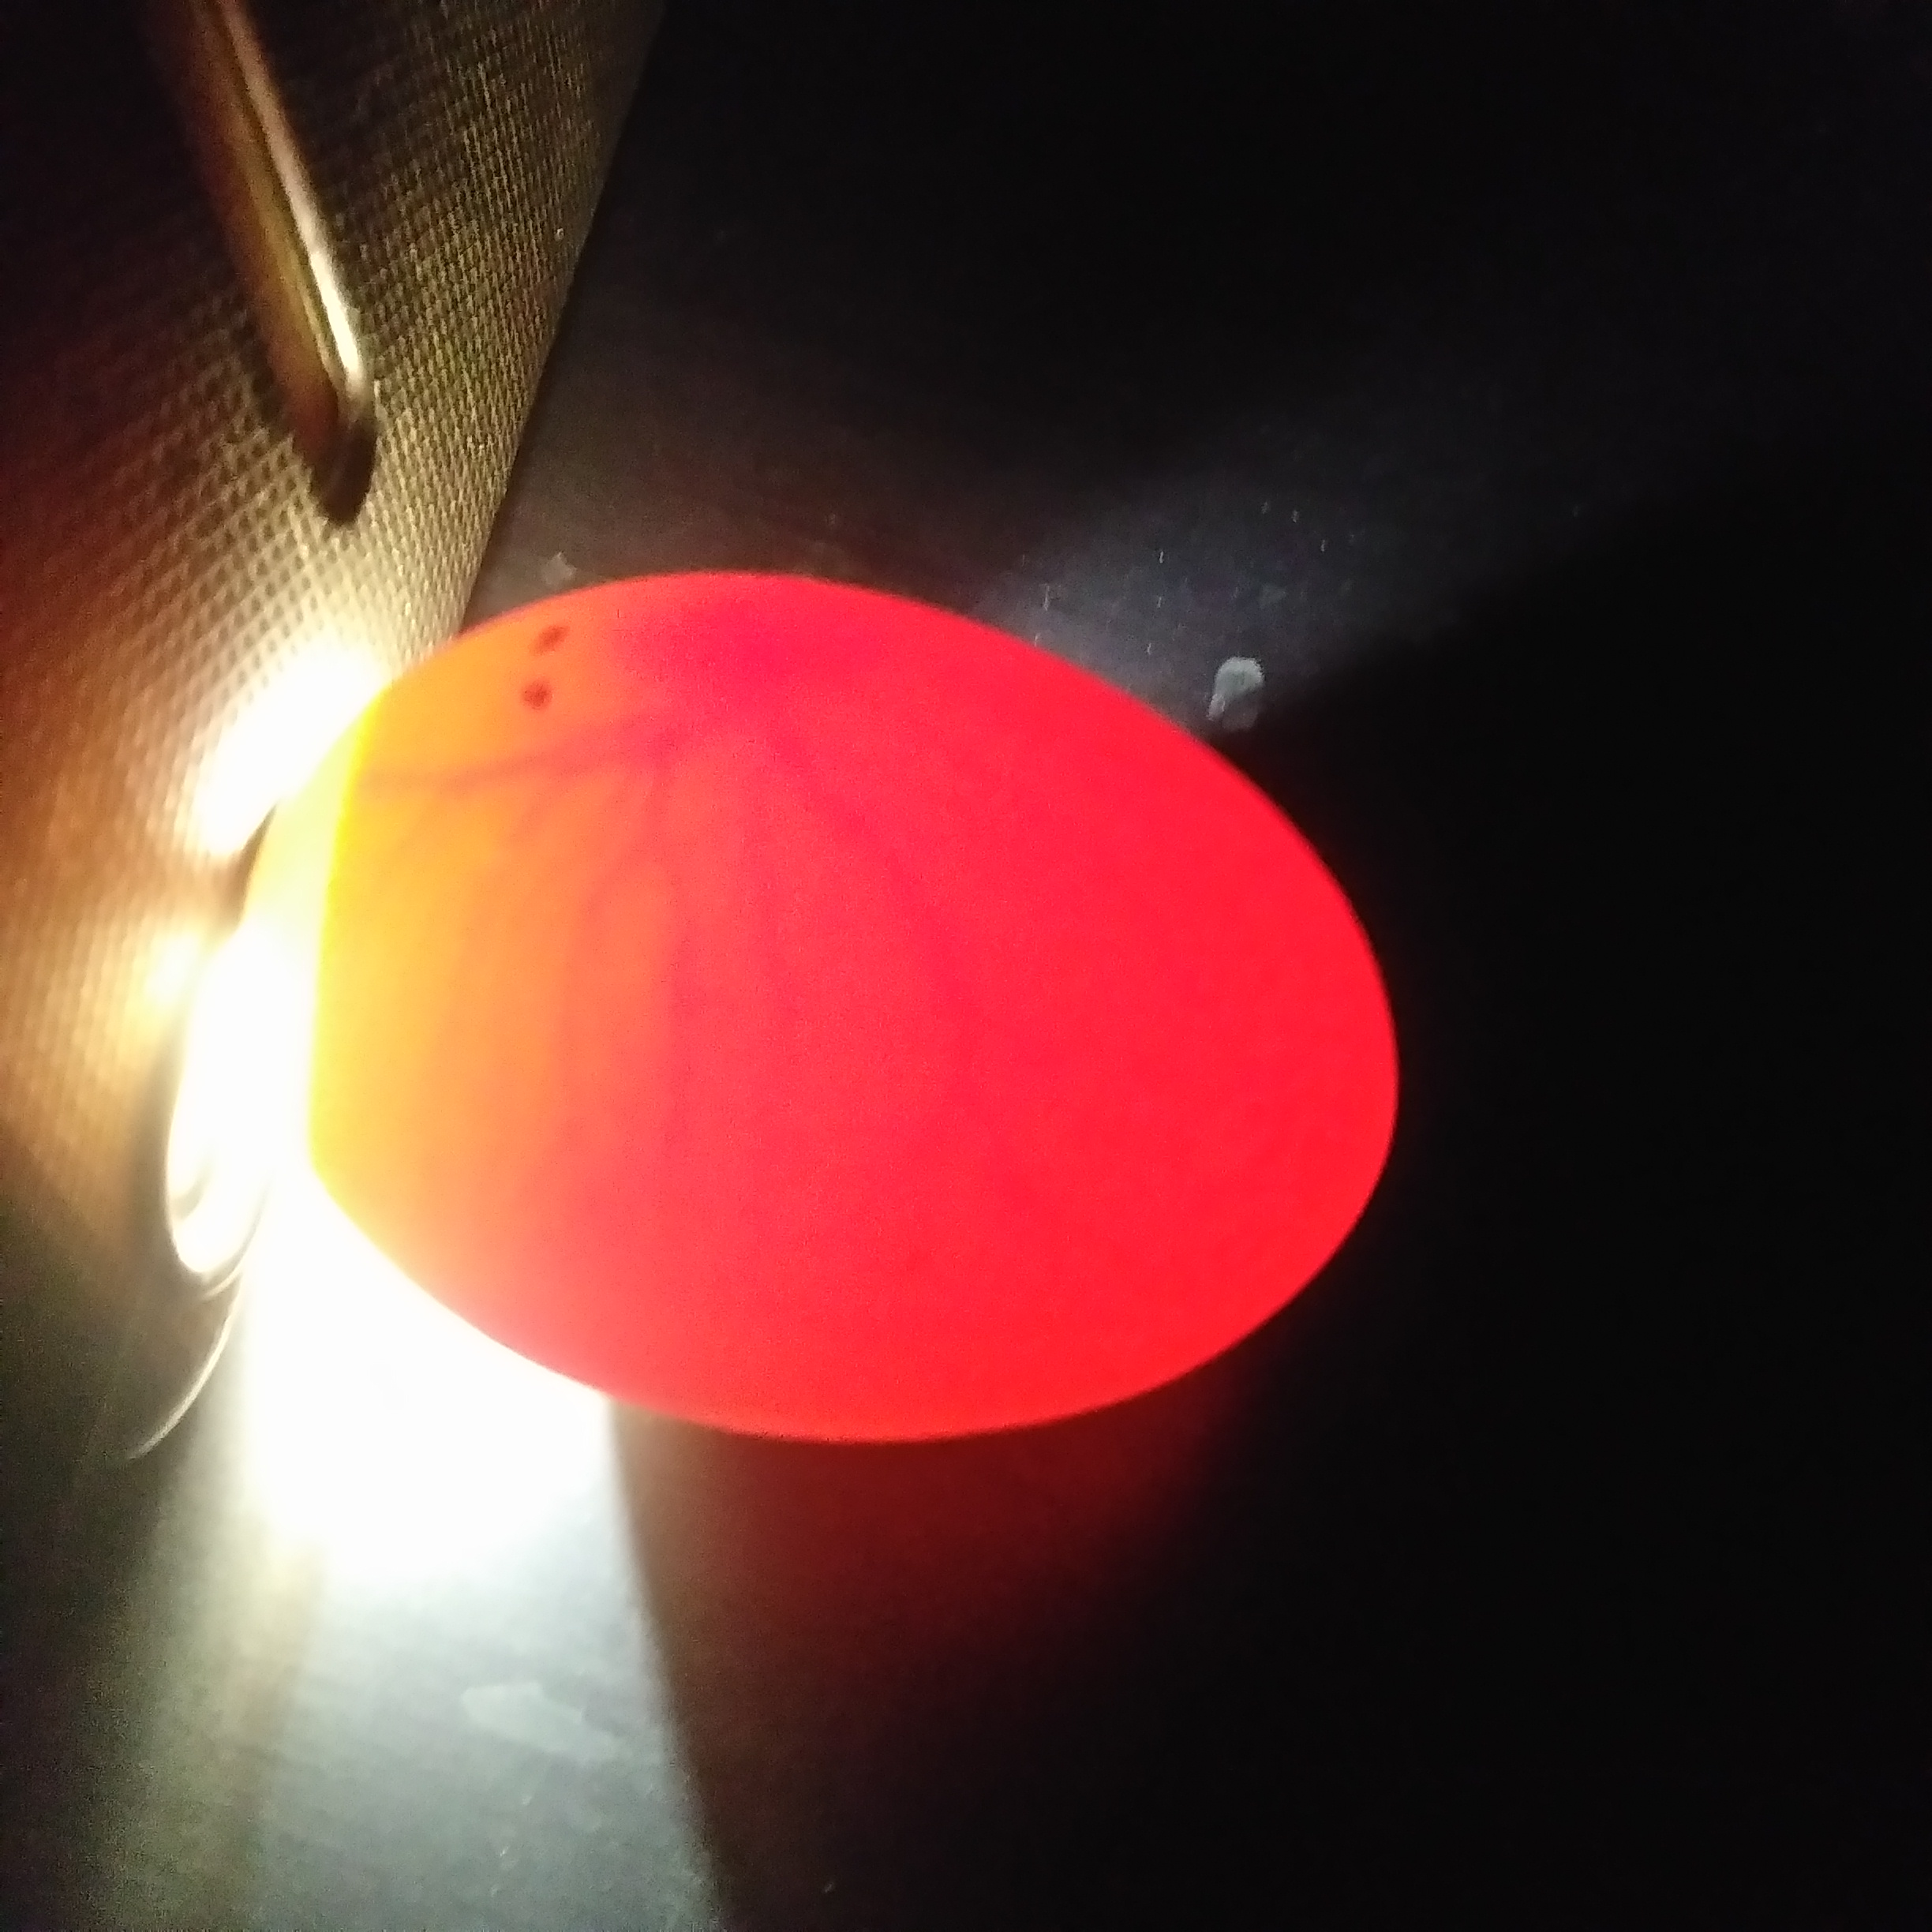bloodcell: (439, 715, 1146, 1295)
embryo: (596, 603, 860, 694)
